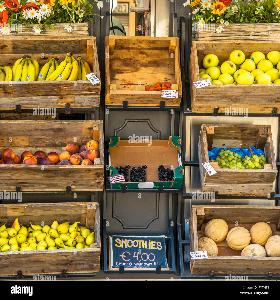apple: (193, 43, 280, 109)
banana: (0, 36, 104, 96)
grape: (197, 124, 280, 189)
melon: (194, 206, 280, 266)
peach: (0, 118, 98, 174)
pear: (0, 204, 100, 260)
strawberry: (106, 38, 178, 98)
